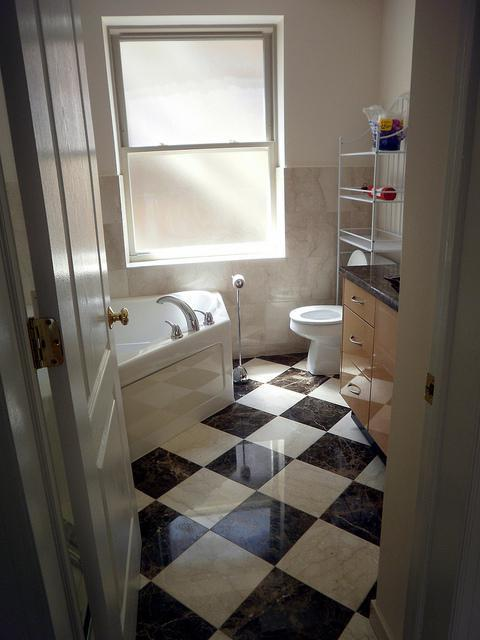Lavamanos: (287, 258, 402, 377)
